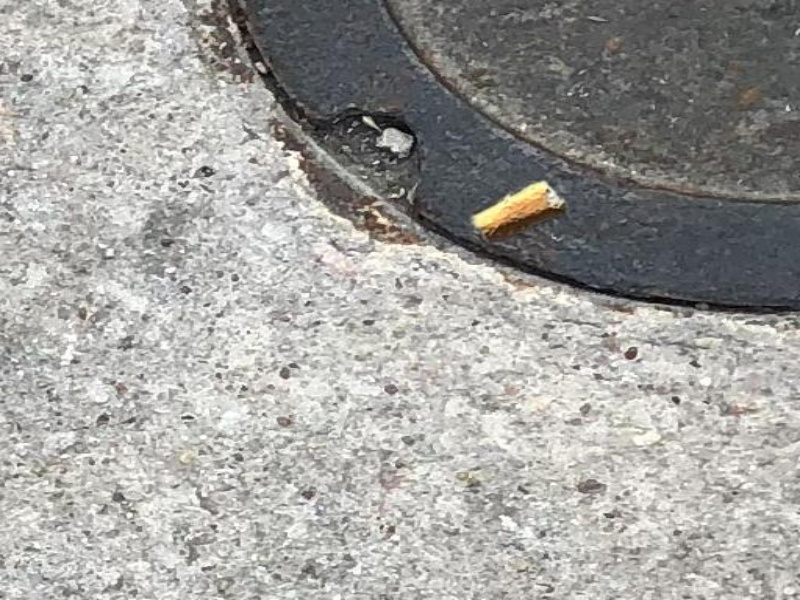cig: (469, 171, 566, 243)
